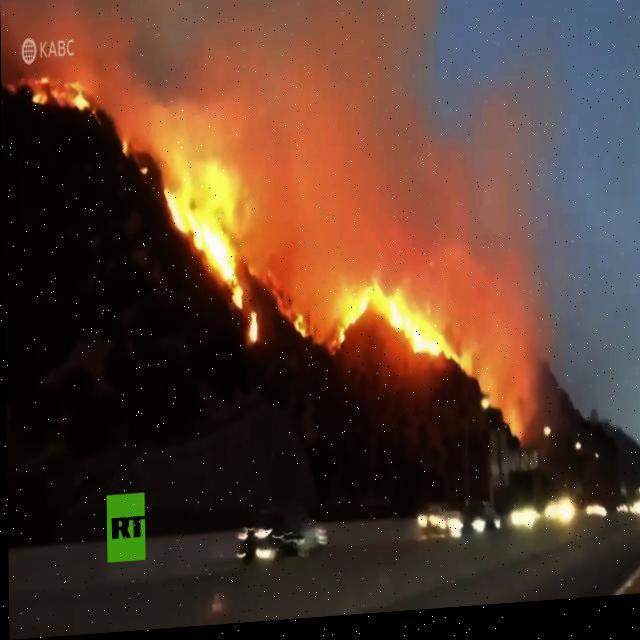Fire: (328, 283, 457, 376), (162, 185, 242, 312), (26, 71, 90, 120), (292, 316, 308, 345), (247, 312, 257, 348)
